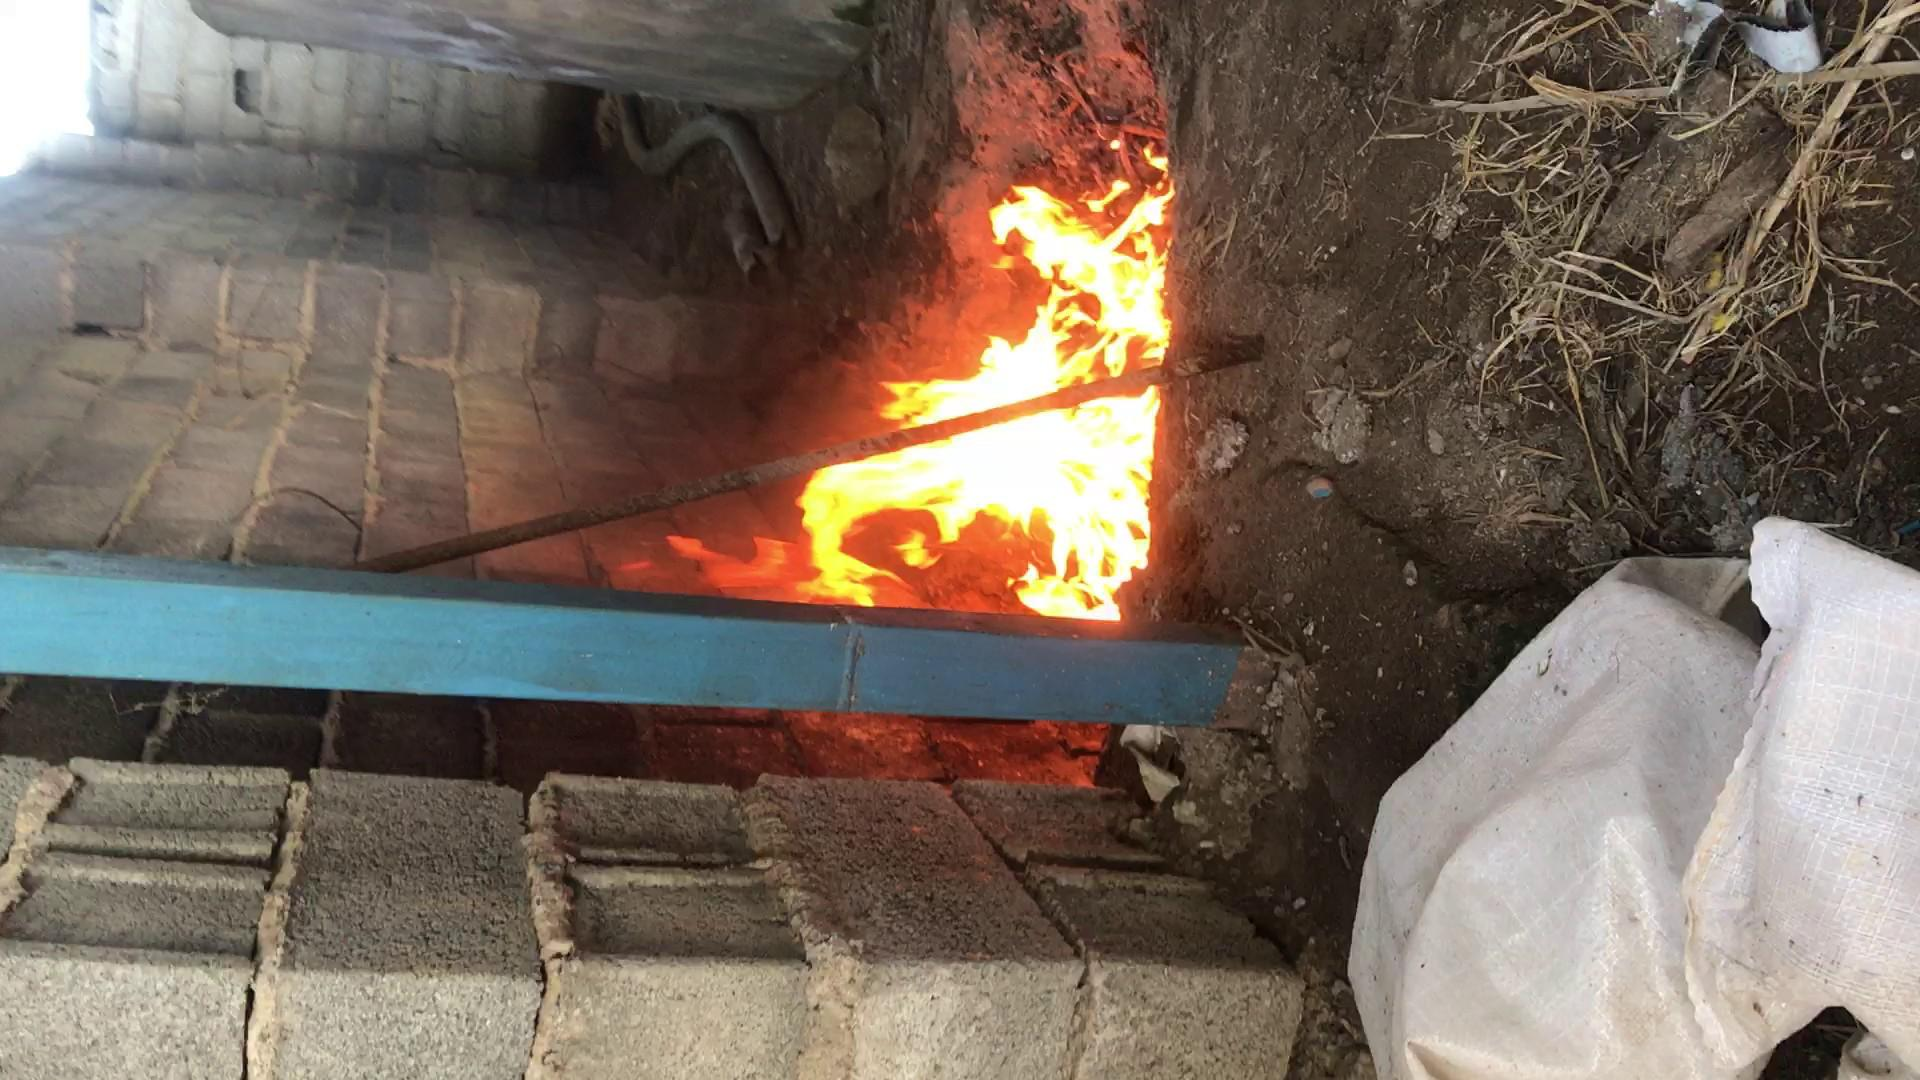fire: (849, 431, 1586, 676)
